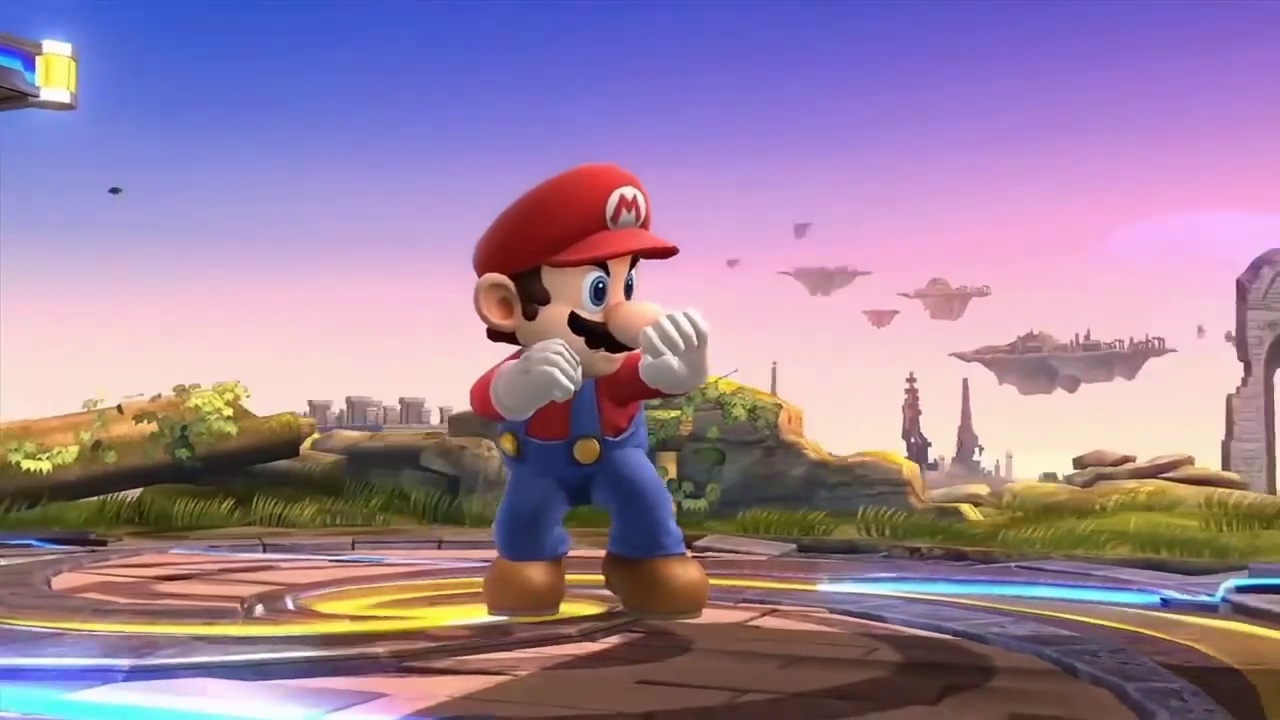Mario: (471, 162, 709, 620)
